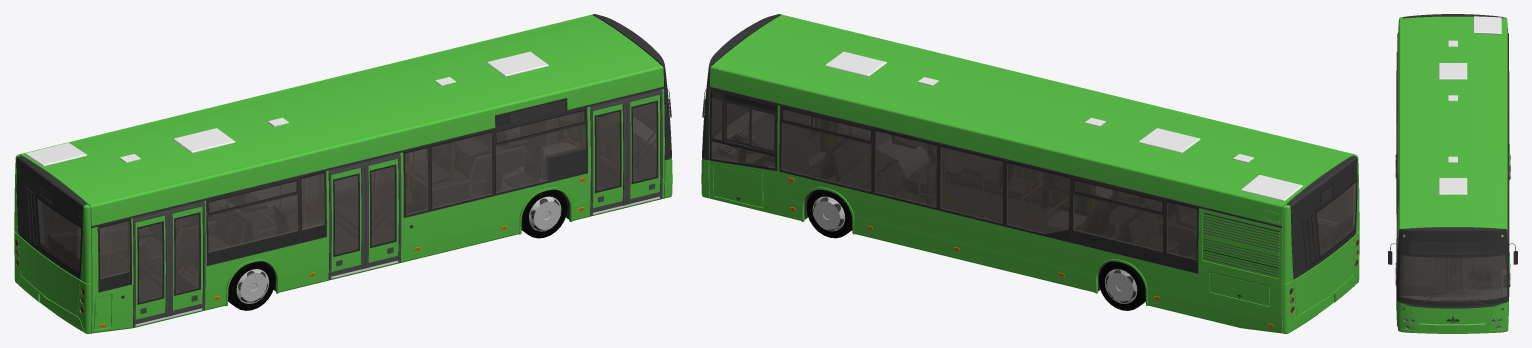
Rendered from maz_203.glb.
The picture shows the model from 3 angles, left to right: view 1: azimuth 30°, elevation 25°; view 2: azimuth 150°, elevation 25°; view 3: azimuth 270°, elevation 25°; orthographic projection. The views are drawn at different scales.
Parts seen in each view (by area): view 1: Material2 (×8), Material3 (×4); view 2: Material2 (×6), Material3 (×3); view 3: Material2 (×8), Material3 (×3).
Boxes of the visible parts, bbox=[...] form: Material2 (×8): bbox=[14, 14, 672, 333]; Material3 (×4): bbox=[25, 51, 665, 303]; Material2 (×6): bbox=[701, 14, 1359, 333]; Material3 (×3): bbox=[708, 51, 1357, 303]; Material2 (×8): bbox=[1388, 14, 1517, 333]; Material3 (×3): bbox=[1399, 16, 1507, 252].
Size of the model in its own units: 477 by 112 by 119.
Materials: 53 (16 with a texture image).
